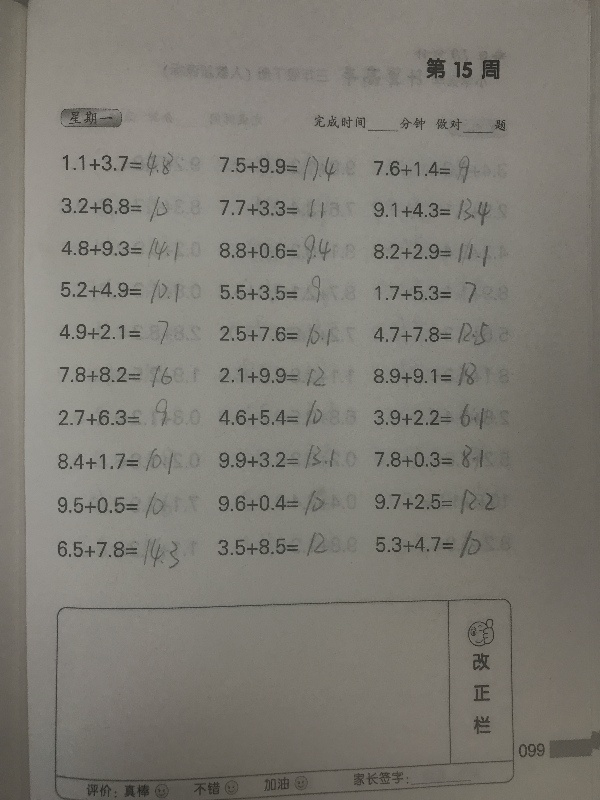equation: (53, 535, 200, 571), (54, 443, 203, 476), (369, 233, 497, 271), (369, 192, 510, 226), (216, 152, 358, 185), (214, 441, 359, 473), (368, 316, 499, 351), (56, 397, 181, 433), (216, 231, 335, 268), (371, 527, 491, 563), (371, 152, 487, 189), (372, 485, 501, 517), (214, 529, 339, 562), (60, 148, 188, 180), (369, 357, 487, 391), (371, 400, 489, 434), (371, 442, 489, 476), (58, 276, 183, 308), (214, 487, 337, 519), (217, 272, 328, 307), (214, 397, 334, 429), (53, 490, 169, 523), (215, 321, 341, 351), (58, 234, 183, 264), (372, 278, 485, 311), (217, 363, 339, 393), (57, 193, 171, 225), (55, 319, 180, 348), (57, 363, 177, 392), (217, 196, 329, 222)
